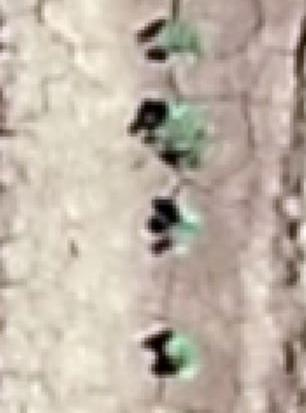cotton: (169, 107, 210, 156), (168, 341, 199, 374), (164, 27, 201, 53), (178, 209, 200, 238)
